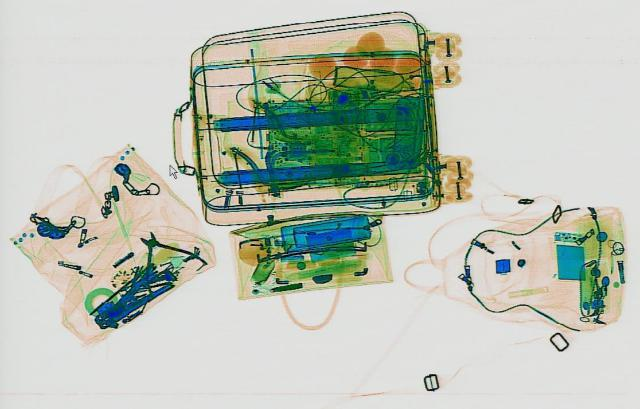Pliers: (79, 268, 175, 330), (110, 224, 208, 283)
